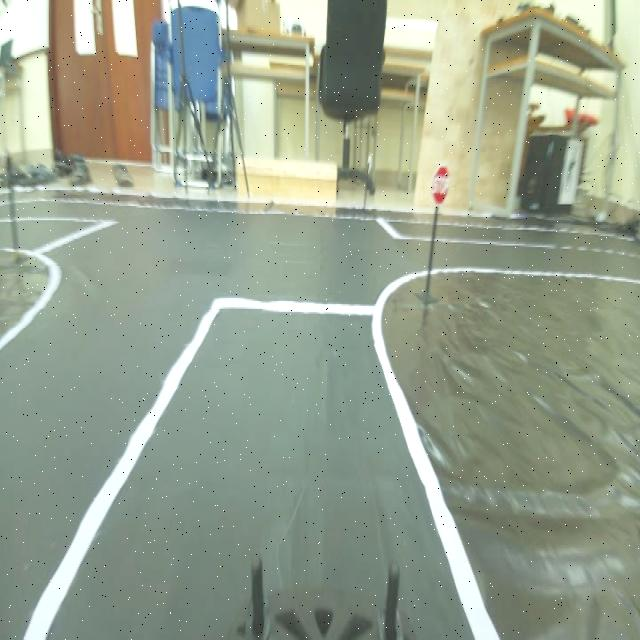stop: (429, 157, 453, 211)
